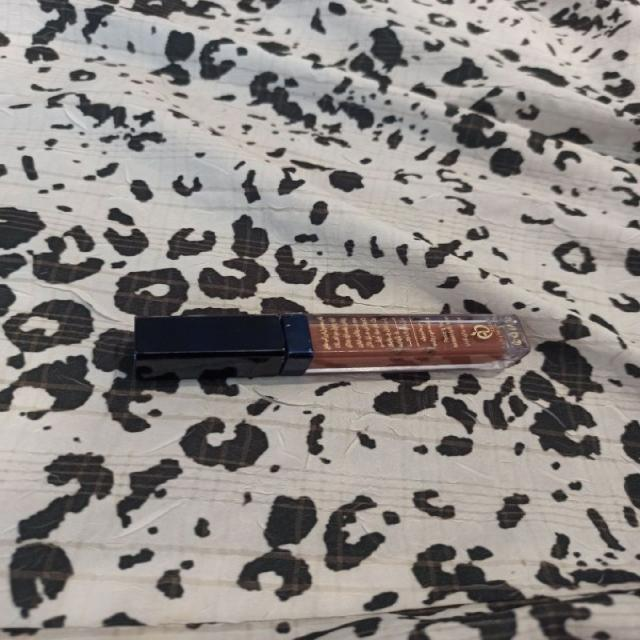lipstick: (132, 312, 530, 379)
